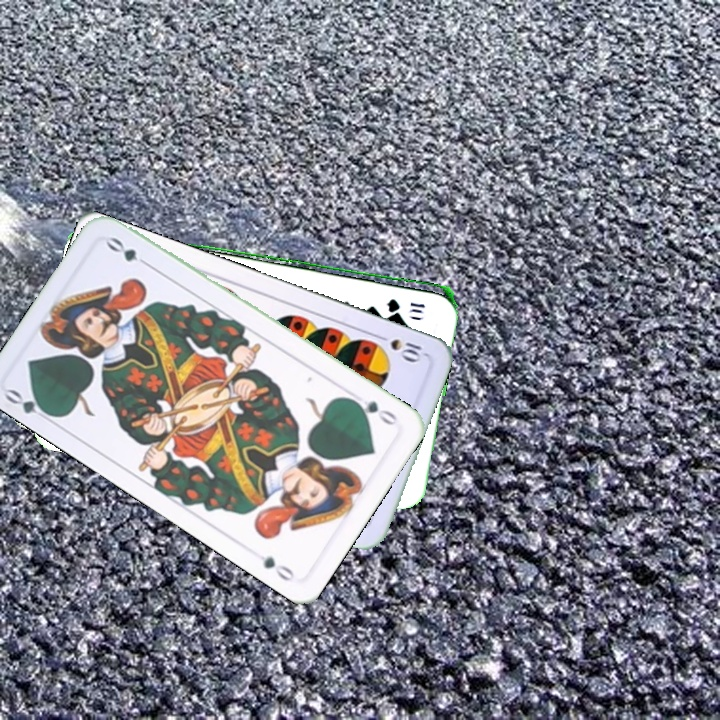G10: (383, 295, 428, 316)
GO: (1, 385, 58, 426), (347, 394, 400, 429)
S10: (371, 330, 428, 365)
